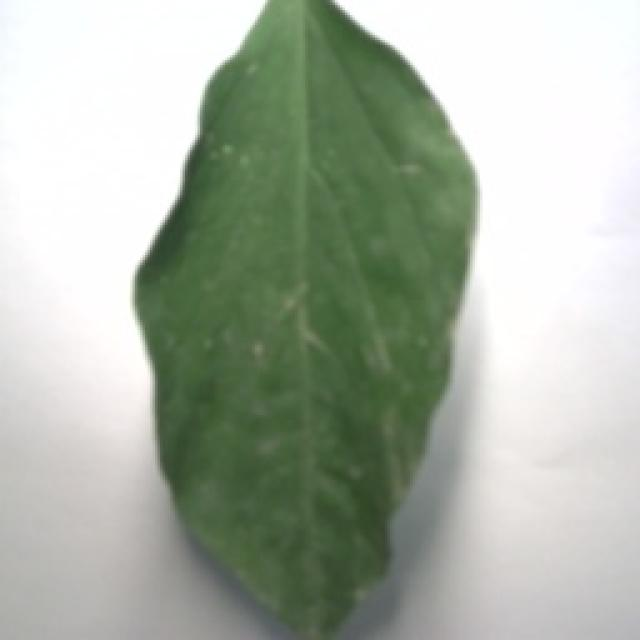Leaf: (130, 3, 477, 633)
